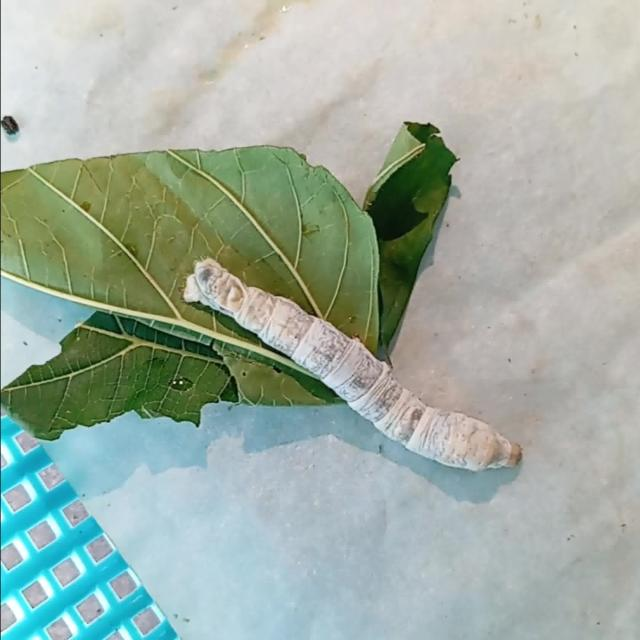Grasserie: (170, 232, 544, 488)
